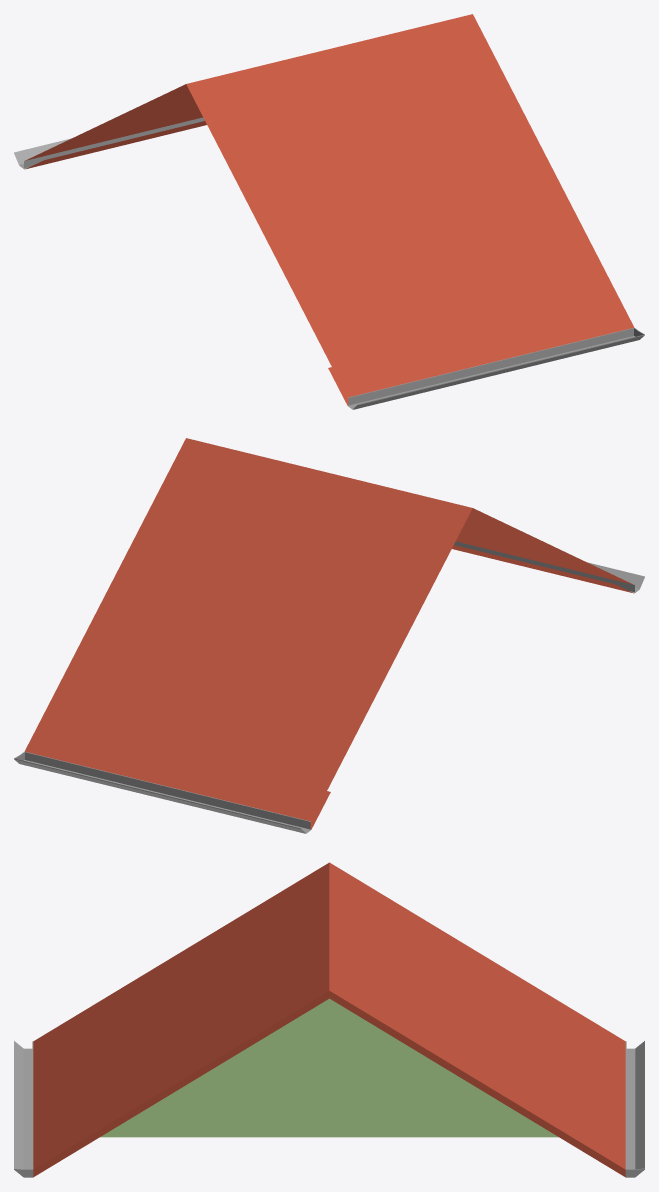
The model's file is MESH_ENV(Telhado_3x6_Ponta_Sem_Cano).fbx.
The picture shows the model from 3 angles, top to bottom: view 1: azimuth 30°, elevation 25°; view 2: azimuth 150°, elevation 25°; view 3: azimuth 270°, elevation 25°; orthographic projection. The views are drawn at different scales.
Visible parts, largest first — view 1: MESH_ENV(Telhado_3x6_Ponta_Sem_Cano)_LOD0; view 2: MESH_ENV(Telhado_3x6_Ponta_Sem_Cano)_LOD0; view 3: MESH_ENV(Telhado_3x6_Ponta_Sem_Cano)_LOD0.
Boxes of the visible parts, bbox=[...] form: MESH_ENV(Telhado_3x6_Ponta_Sem_Cano)_LOD0: bbox=[14, 14, 644, 409]; MESH_ENV(Telhado_3x6_Ponta_Sem_Cano)_LOD0: bbox=[14, 438, 644, 833]; MESH_ENV(Telhado_3x6_Ponta_Sem_Cano)_LOD0: bbox=[14, 862, 644, 1177].
Size of the model in its own units: 350 by 238 by 728.
